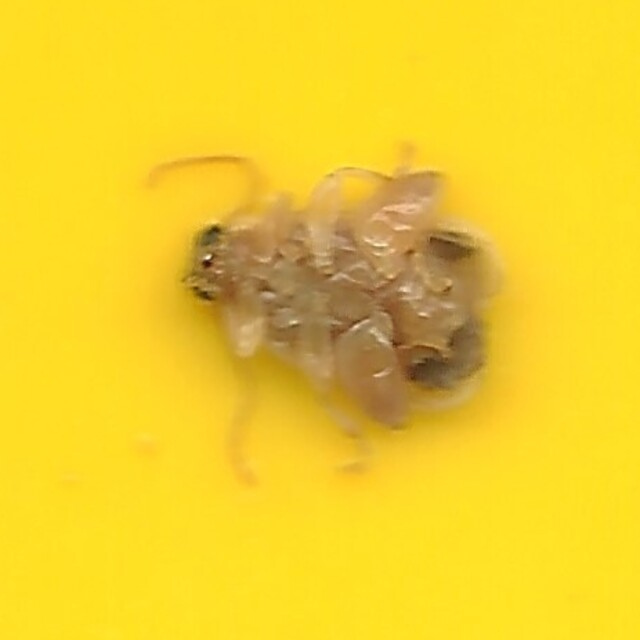Coleoptera: (138, 148, 502, 492)
